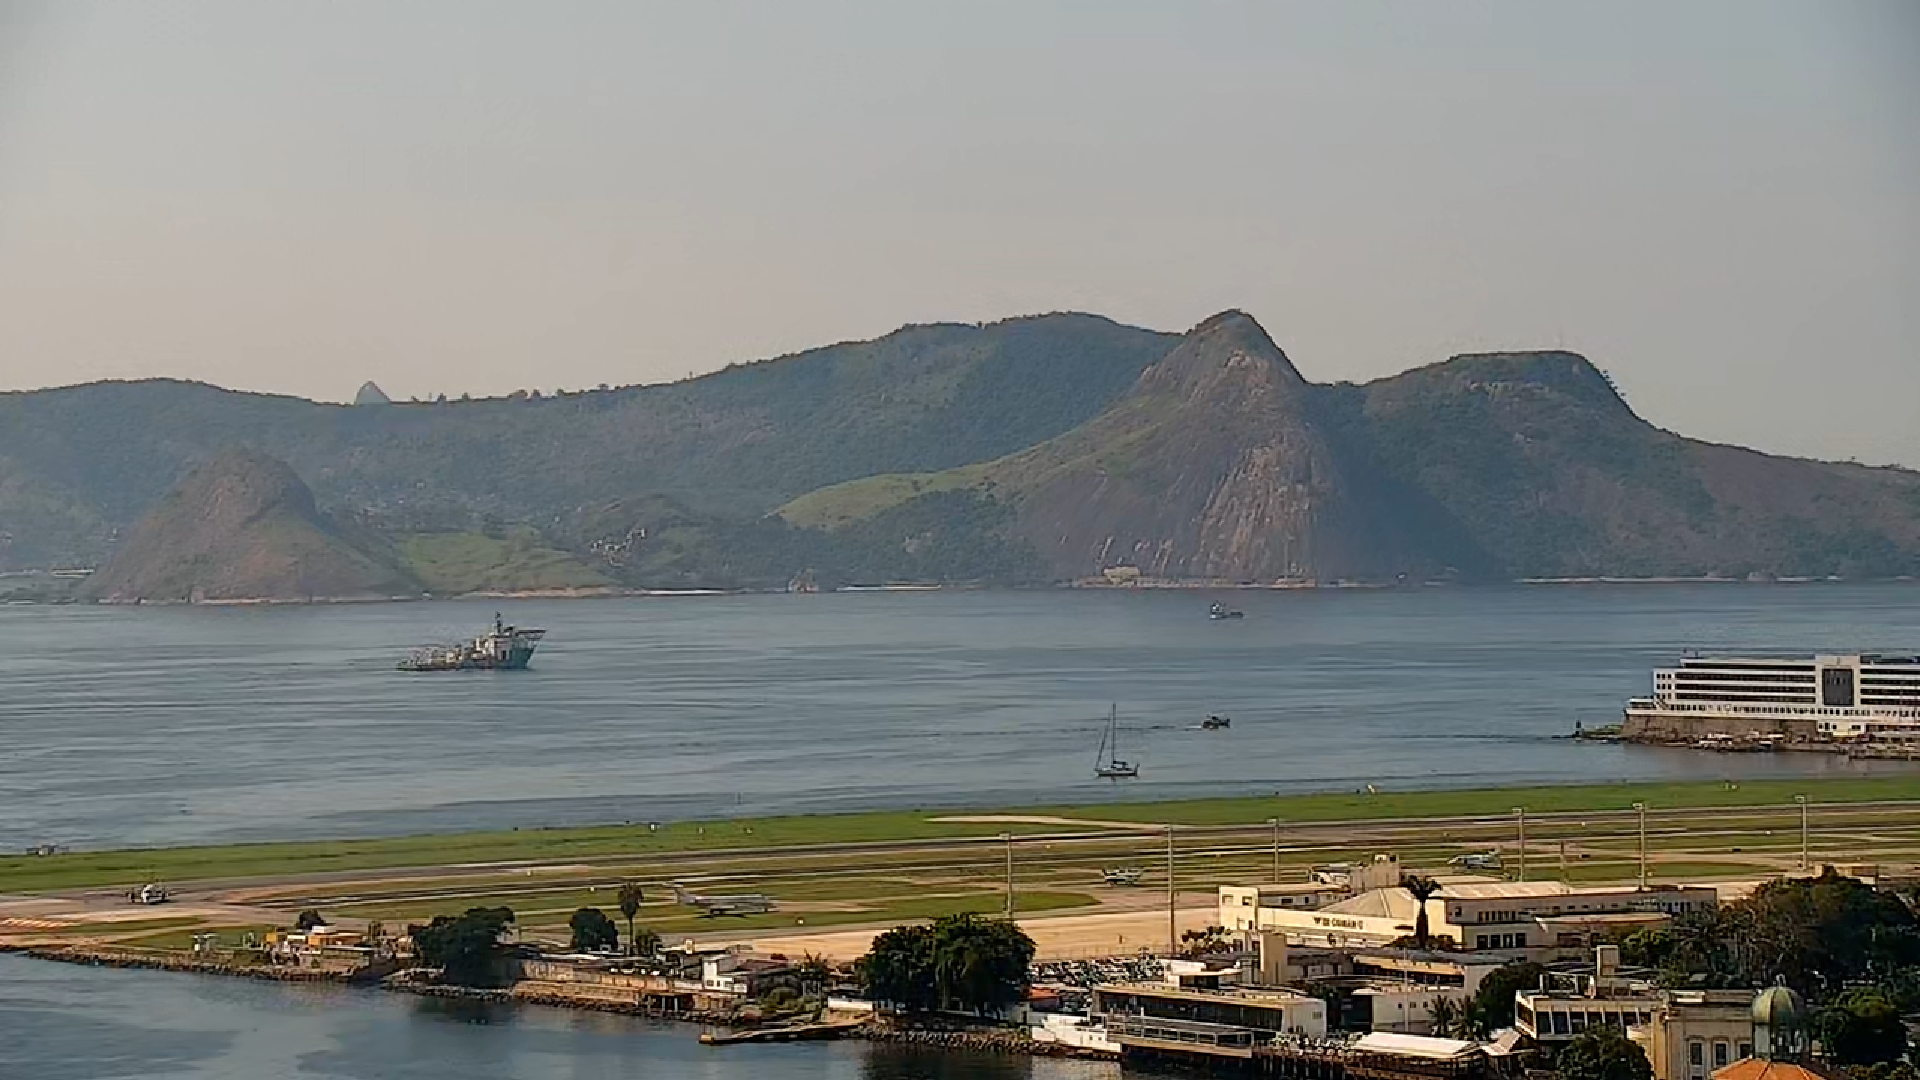Ship3: (1096, 702, 1142, 782)
Ship5: (390, 609, 551, 676)
Ship7: (1196, 708, 1234, 735), (1211, 608, 1247, 622)
